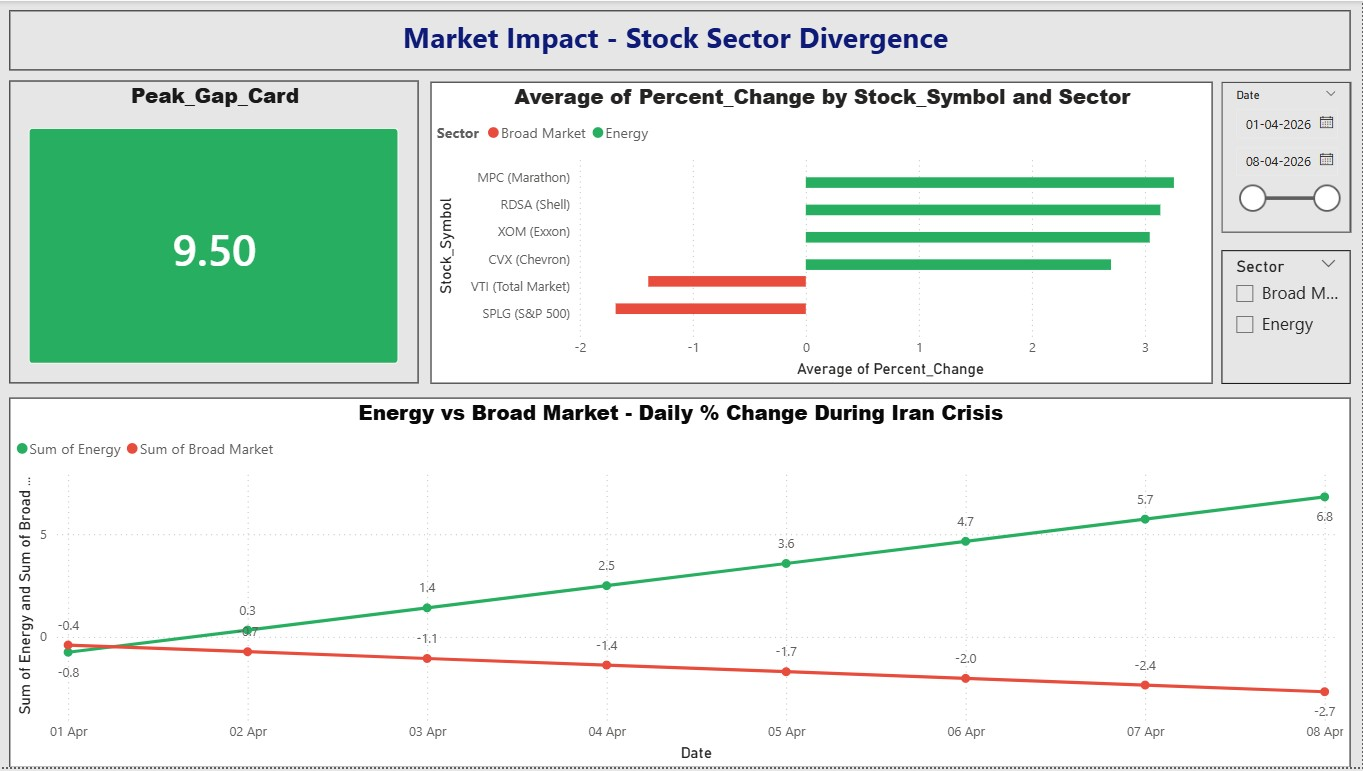

What the dashboard file says about the page in this screenshot:
{"tool":"powerbi","page":{"name":"Market Impact","canvas":[1280,720],"ordinal":1},"visuals":[{"type":"lineChart","title":"Energy vs Broad Market - Daily % Change During Iran Crisis","fields":{"Y":["Sum(powerbi_master.Energy)","Sum(powerbi_master.Broad Market)"],"Category":["powerbi_master.Date"]},"box":[8.8,372.8,1260.4,347.5],"z":0},{"type":"textbox","box":[8.8,8.8,1260.4,56.1],"z":1000},{"type":"cardVisual","title":"Peak_Gap_Card","fields":{"Data":["powerbi_country_change_%_change.Max_Divergence"]},"box":[8.8,74.8,384.9,284.8],"z":2000},{"type":"clusteredBarChart","fields":{"Category":["powerbi_stocks_clean.Stock_Symbol"],"Y":["Avg(powerbi_stocks_clean.Percent_Change)"],"Series":["powerbi_stocks_clean.Sector"]},"box":[404.7,75.9,734.7,283.7],"z":3000},{"type":"slicer","fields":{"Values":["powerbi_master.Date"]},"box":[1148.2,75.9,121,141.9],"z":4000},{"type":"slicer","fields":{"Values":["powerbi_stocks_clean.Sector"]},"box":[1148.2,234.3,121,125.4],"z":5000}]}

Visuals, with their boxes in screenshot pixels (x1, y1, x2, y2), scaled from the page's 1280x720 canvas onto the 1363x771 screenshot:
"Energy vs Broad Market - Daily % Change During Iran Crisis" lineChart: [x1=9, y1=399, x2=1351, y2=770]
textbox: [x1=9, y1=9, x2=1351, y2=69]
"Peak_Gap_Card" cardVisual: [x1=9, y1=80, x2=419, y2=385]
clusteredBarChart - powerbi_stocks_clean.Stock_Symbol x Avg(powerbi_stocks_clean.Percent_Change): [x1=431, y1=81, x2=1213, y2=385]
slicer - powerbi_master.Date: [x1=1223, y1=81, x2=1351, y2=233]
slicer - powerbi_stocks_clean.Sector: [x1=1223, y1=251, x2=1351, y2=385]
